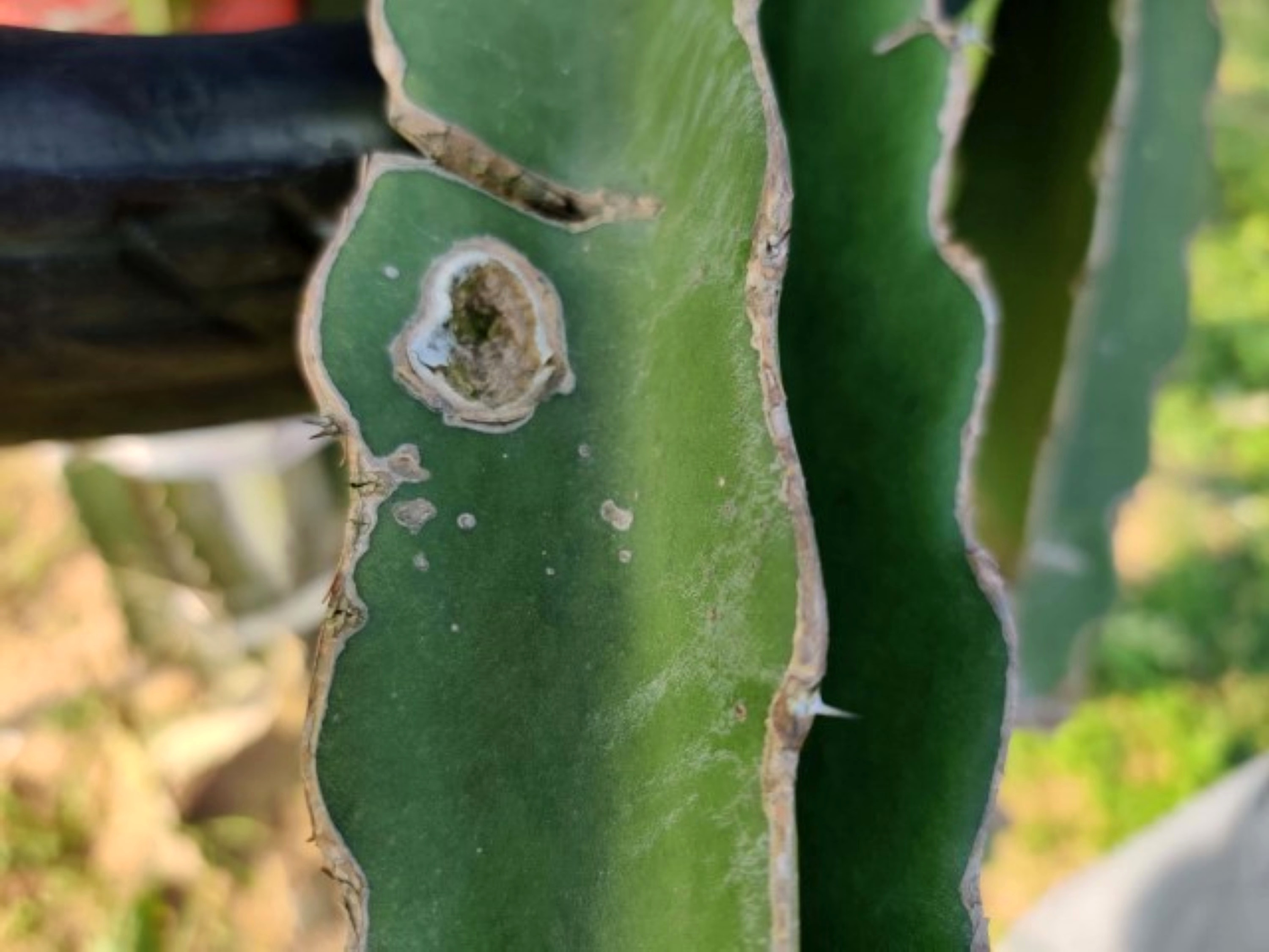stemcanker: (271, 49, 664, 546)
